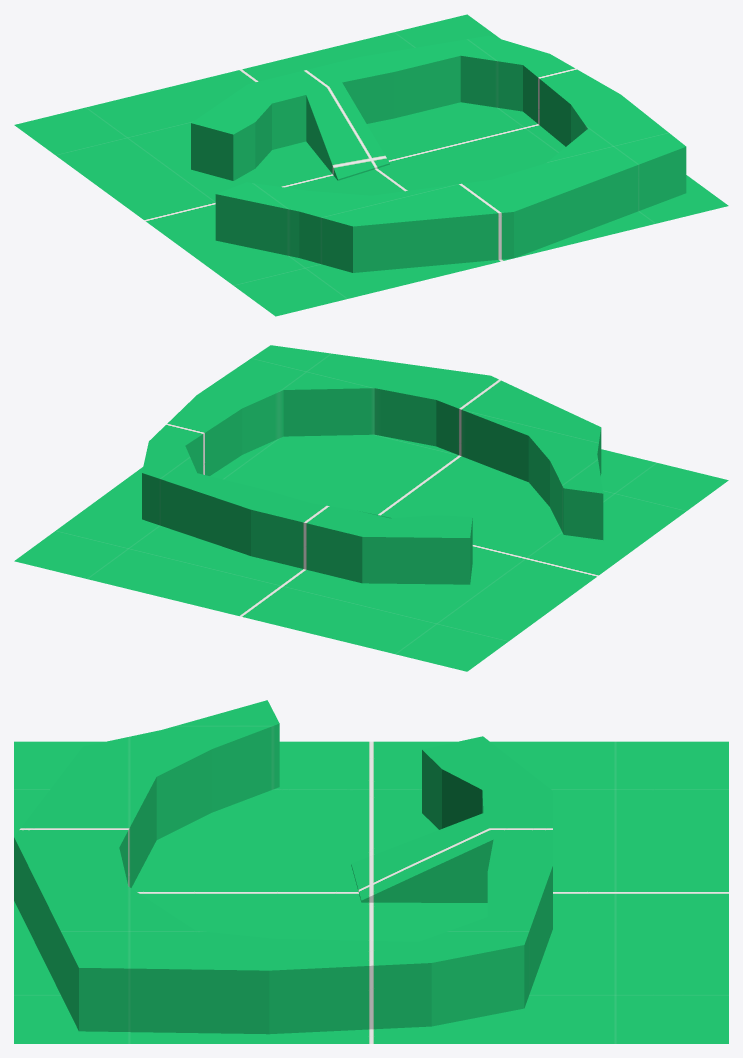
The model's file is level.glb.
The picture shows the model from 3 angles, top to bottom: view 1: azimuth 30°, elevation 25°; view 2: azimuth 150°, elevation 25°; view 3: azimuth 270°, elevation 25°; orthographic projection. The views are drawn at different scales.
Parts seen in each view (by area): view 1: Plane; view 2: Plane; view 3: Plane.
Part boxes in pixels (x1=…): Plane: x1=14, y1=14, x2=728, y2=316; Plane: x1=14, y1=345, x2=728, y2=671; Plane: x1=14, y1=700, x2=728, y2=1043.
Size of the model in its own units: 20 by 1.96 by 20.
Materials: 1 (1 with a texture image).
